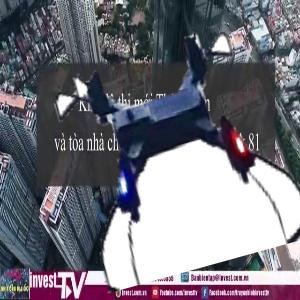drone: (57, 35, 294, 272)
